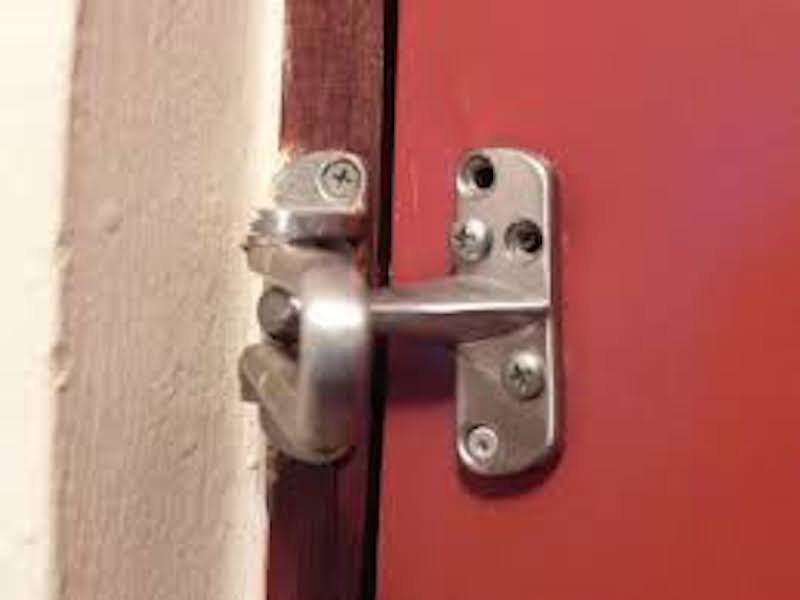hole: (502, 216, 546, 267), (459, 156, 498, 197)
screw: (497, 348, 548, 398), (448, 216, 493, 265), (462, 423, 503, 469), (320, 158, 362, 201)
